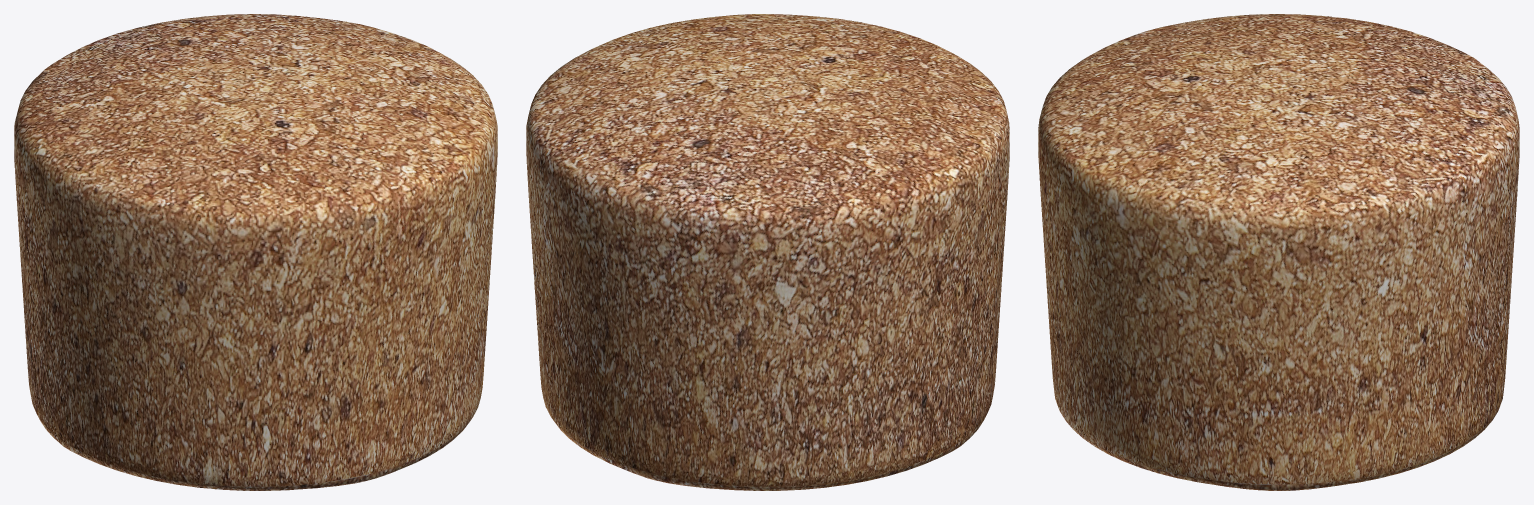
Rendered from Carafe_stopper.fbx.
3 renders of one model, left to right at view 1: azimuth 30°, elevation 25°; view 2: azimuth 150°, elevation 25°; view 3: azimuth 270°, elevation 25°, orthographic.
Visible parts, largest first — view 1: stopper; view 2: stopper; view 3: stopper.
Part boxes in pixels (x1=…): stopper: x1=14, y1=14, x2=497, y2=490; stopper: x1=526, y1=14, x2=1009, y2=490; stopper: x1=1038, y1=14, x2=1519, y2=490.
Size of the model in its own units: 0.0583 by 0.0583 by 0.042.
